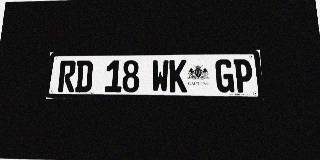1: (104, 60, 122, 92)
8: (122, 60, 140, 92)
D: (75, 60, 93, 92)
G: (215, 59, 234, 92)
K: (169, 60, 187, 92)
P: (233, 59, 253, 93)
R: (58, 61, 76, 92)
W: (151, 60, 169, 92)
